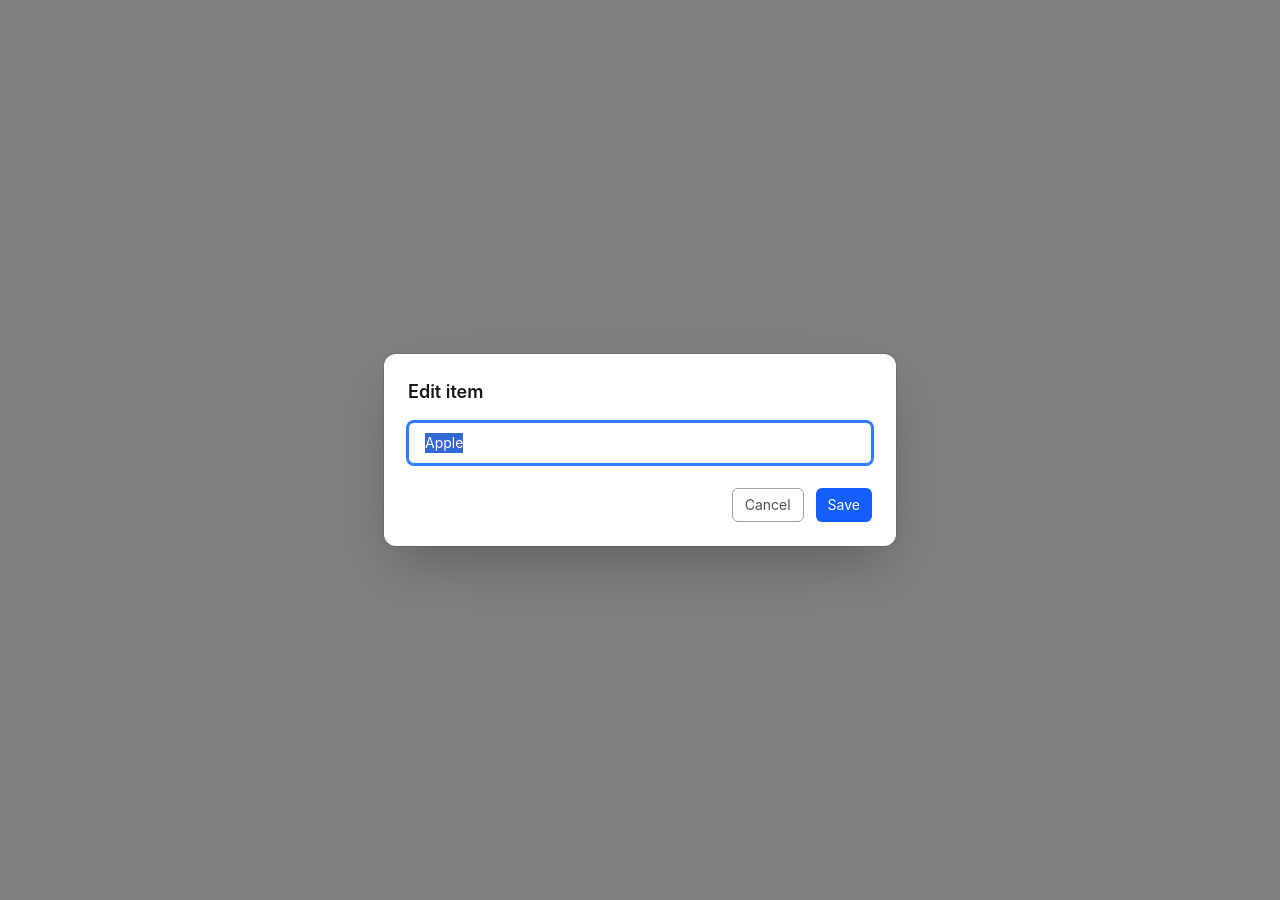
Scenario: EditItemDialog › disables Save when the input is empty
This screenshot has width=1280, height=900.
Clear the field named "edit item" at (640, 443), box [408,422,872,464]
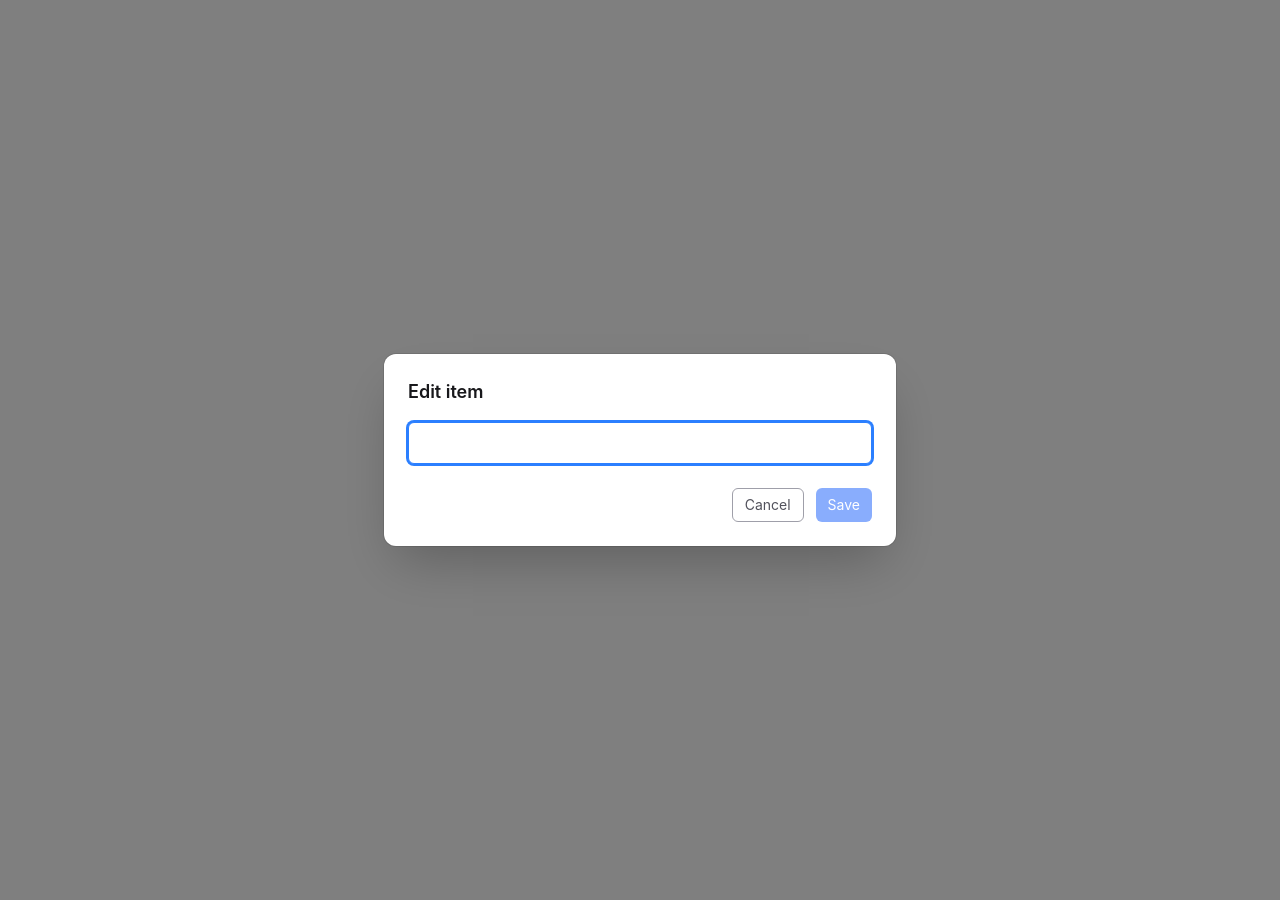
Now the button "Save" is disabled, box [816,488,872,522]
